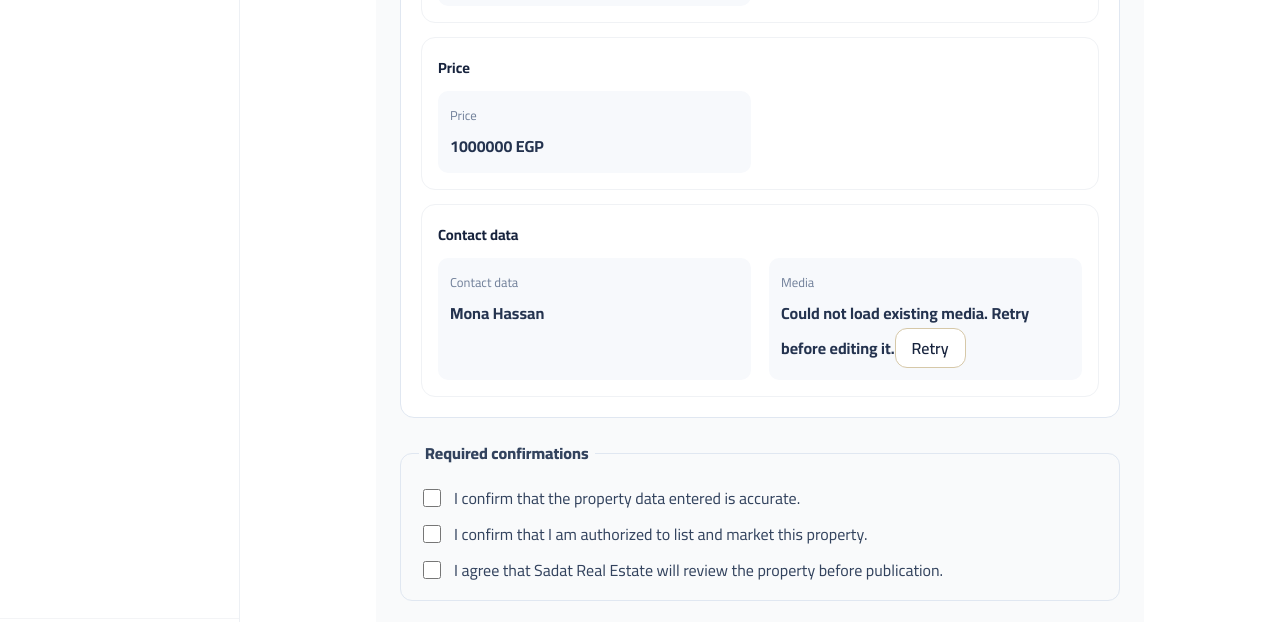
Test case: provider property media, contact, and review completion › shows a load failure rather than an empty review and retries only the media request
(page scrolled)
Expected: the text "Could not load existing media. Retry before editing it." is shown, x1=781 y1=298 x2=1029 y2=363
Expected: the text "No saved media for this property" is not shown
Click the button "Retry" at (930, 348), box x1=895 y1=328 x2=966 y2=368
(page scrolled)
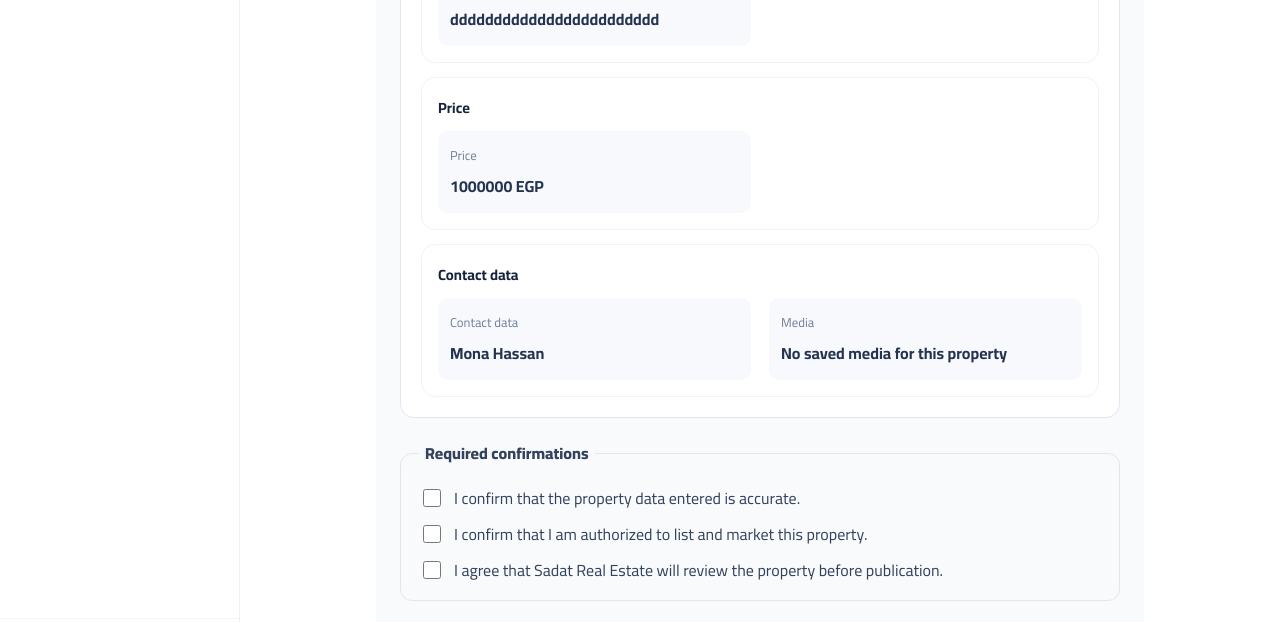
Expected: the text "No saved media for this property" is shown, x1=781 y1=338 x2=1007 y2=368
